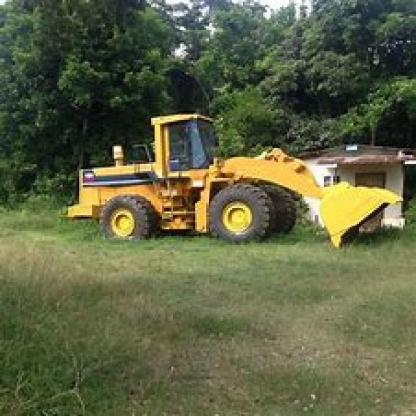bull_dozer/loader/grader: (57, 104, 401, 249)
